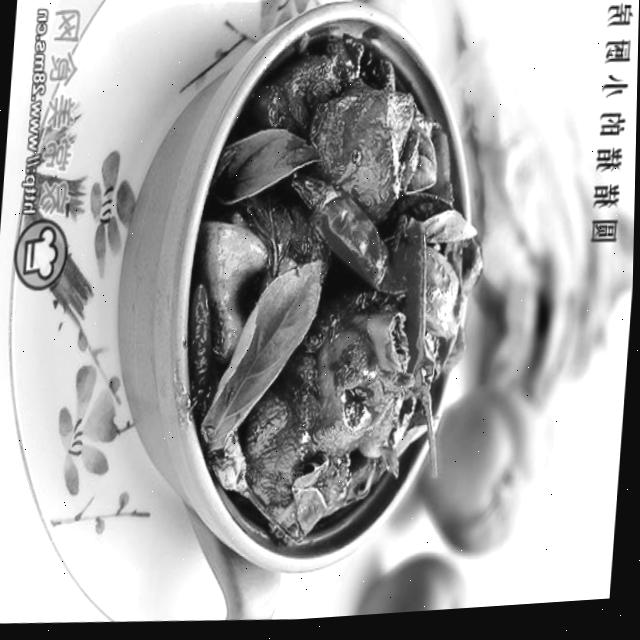鸡肉料理 含炸鸡: (67, 0, 523, 593)
